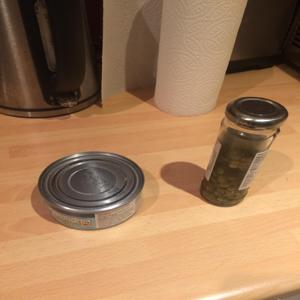glass: (206, 123, 277, 221)
metal: (26, 145, 162, 231), (227, 96, 290, 128)
